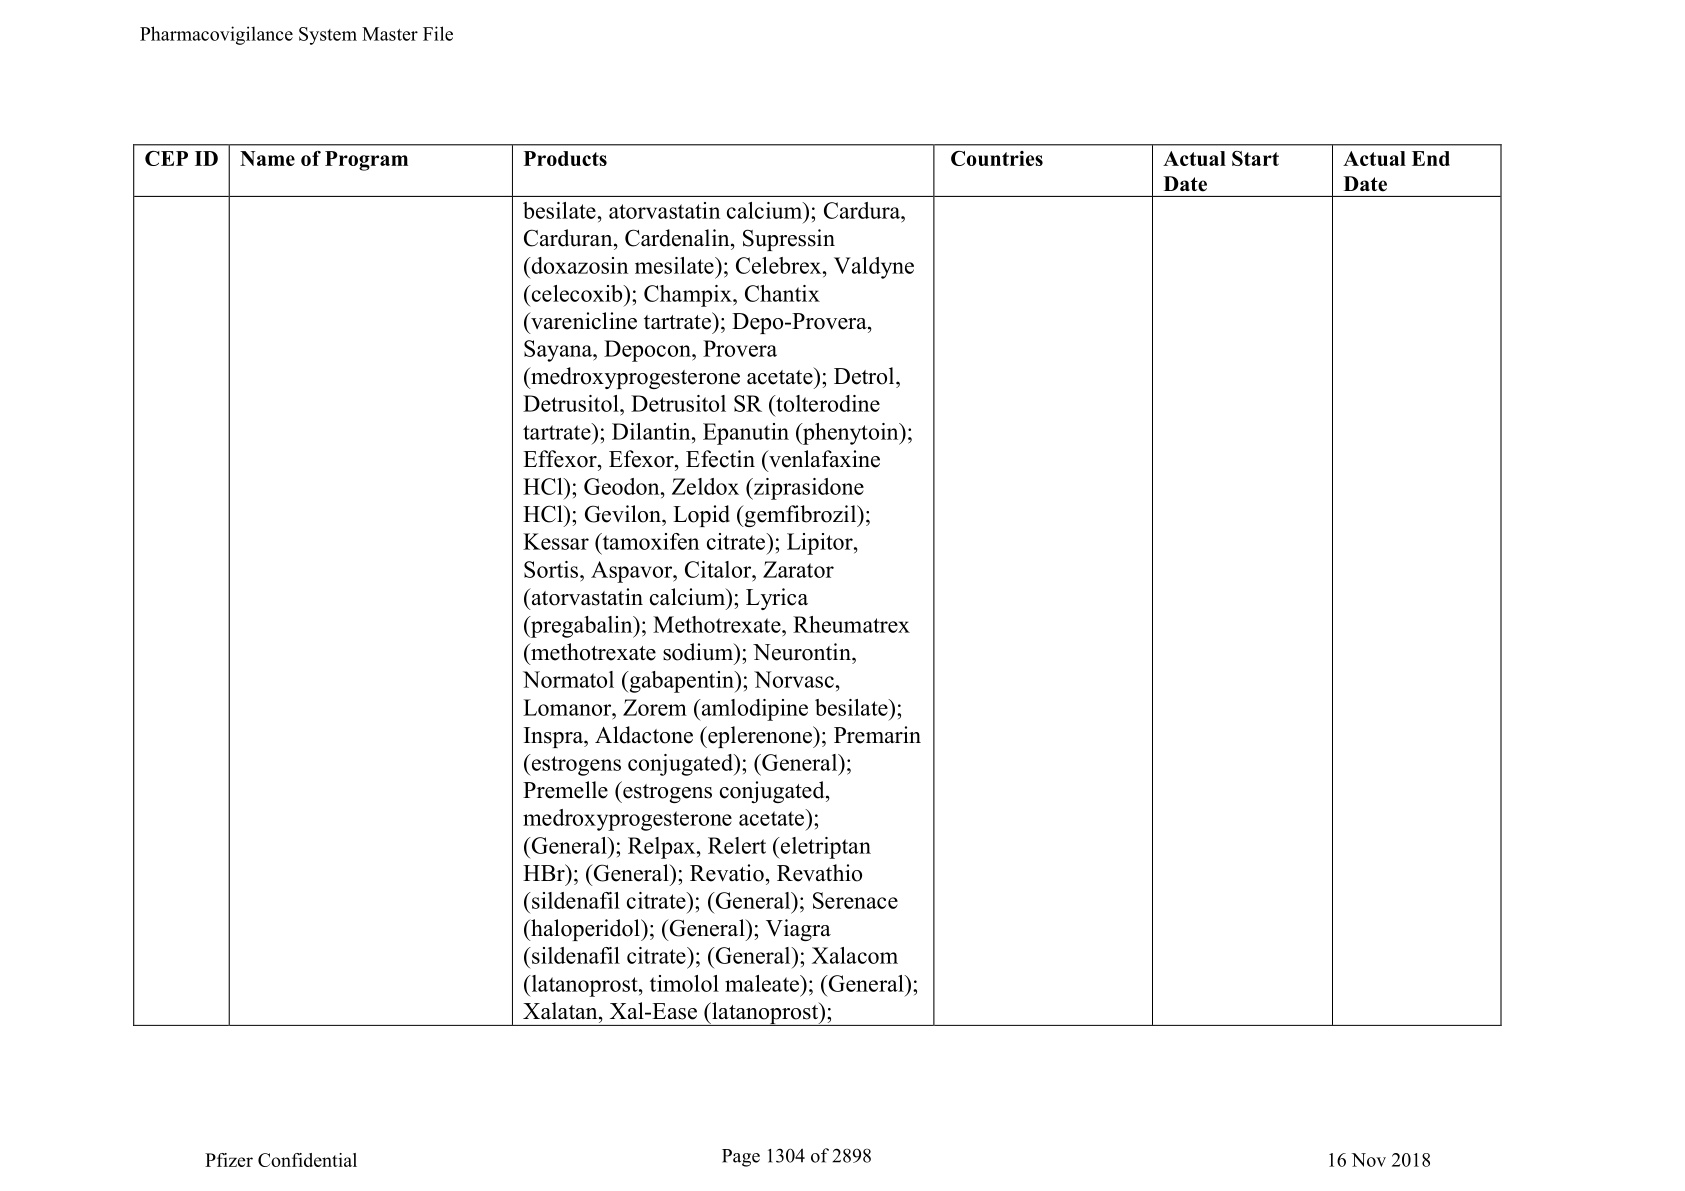full_lined: (133, 144, 1502, 1026)
